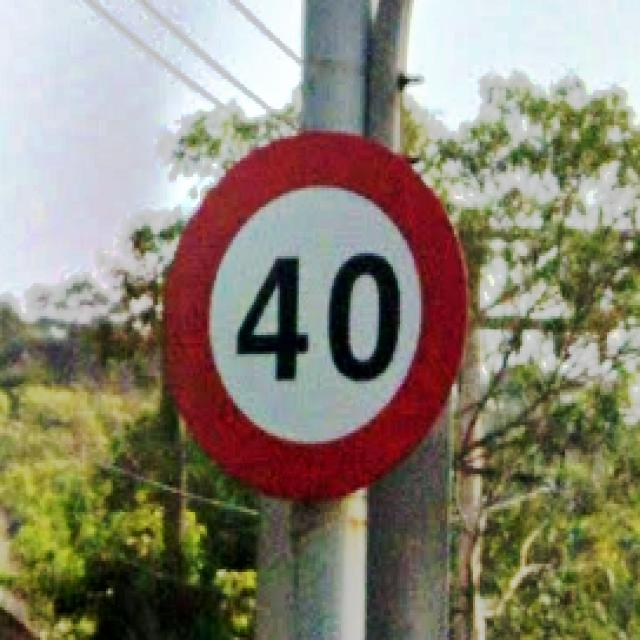max40: (157, 125, 470, 504)
